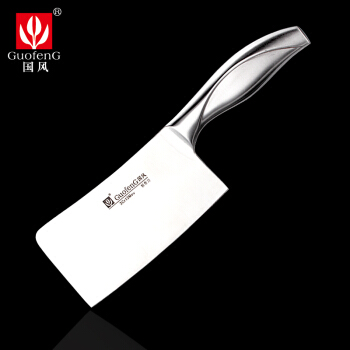knief: (52, 29, 311, 311)
